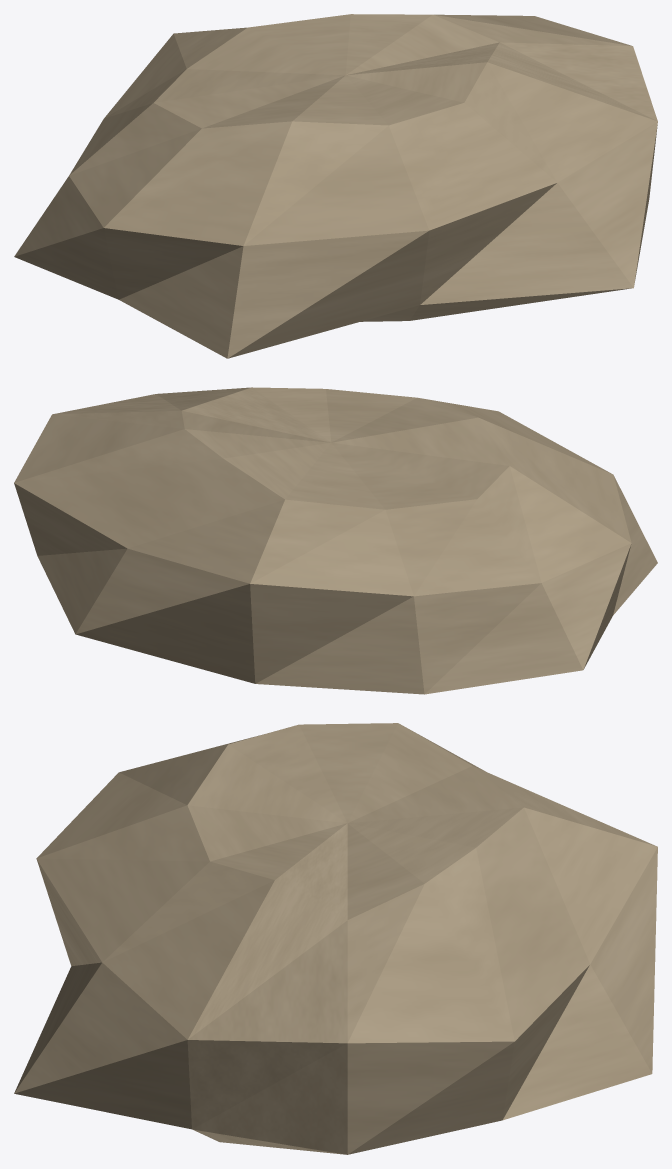
The model's file is SM_CN_Caliche_A.fbx.
3 views of the same model, one above another, from view 1: azimuth 30°, elevation 25°; view 2: azimuth 150°, elevation 25°; view 3: azimuth 270°, elevation 25° (orthographic). The views are drawn at different scales.
Visible parts, largest first — view 1: SM_CN_Caliche_A; view 2: SM_CN_Caliche_A; view 3: SM_CN_Caliche_A.
Boxes of the visible parts, x1=… form: SM_CN_Caliche_A: x1=14, y1=14, x2=657, y2=358; SM_CN_Caliche_A: x1=14, y1=387, x2=657, y2=694; SM_CN_Caliche_A: x1=14, y1=723, x2=657, y2=1154.
Bounding box in the file's own units: 0.64 × 0.5041 × 0.19.
